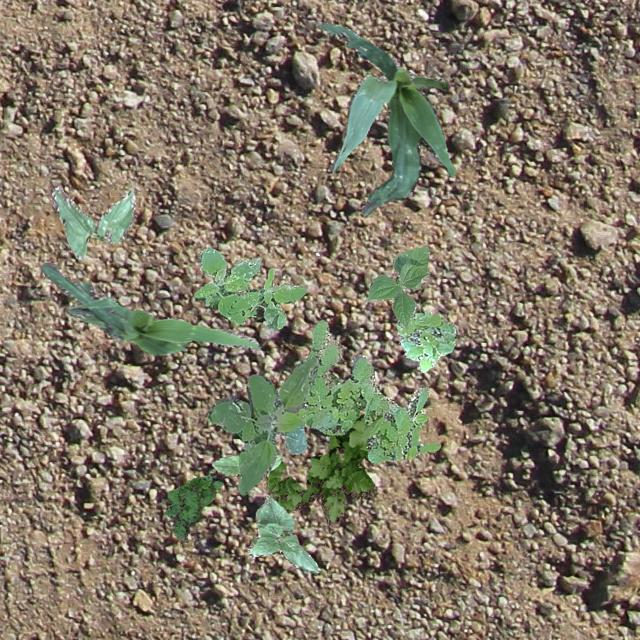crop: (316, 21, 454, 216), (39, 262, 258, 354), (50, 185, 134, 258), (246, 494, 318, 572), (366, 245, 428, 328), (210, 452, 280, 476)
weed: (296, 319, 440, 462), (266, 372, 382, 526), (205, 354, 318, 494), (192, 246, 306, 328), (394, 308, 456, 372), (164, 472, 222, 540)
